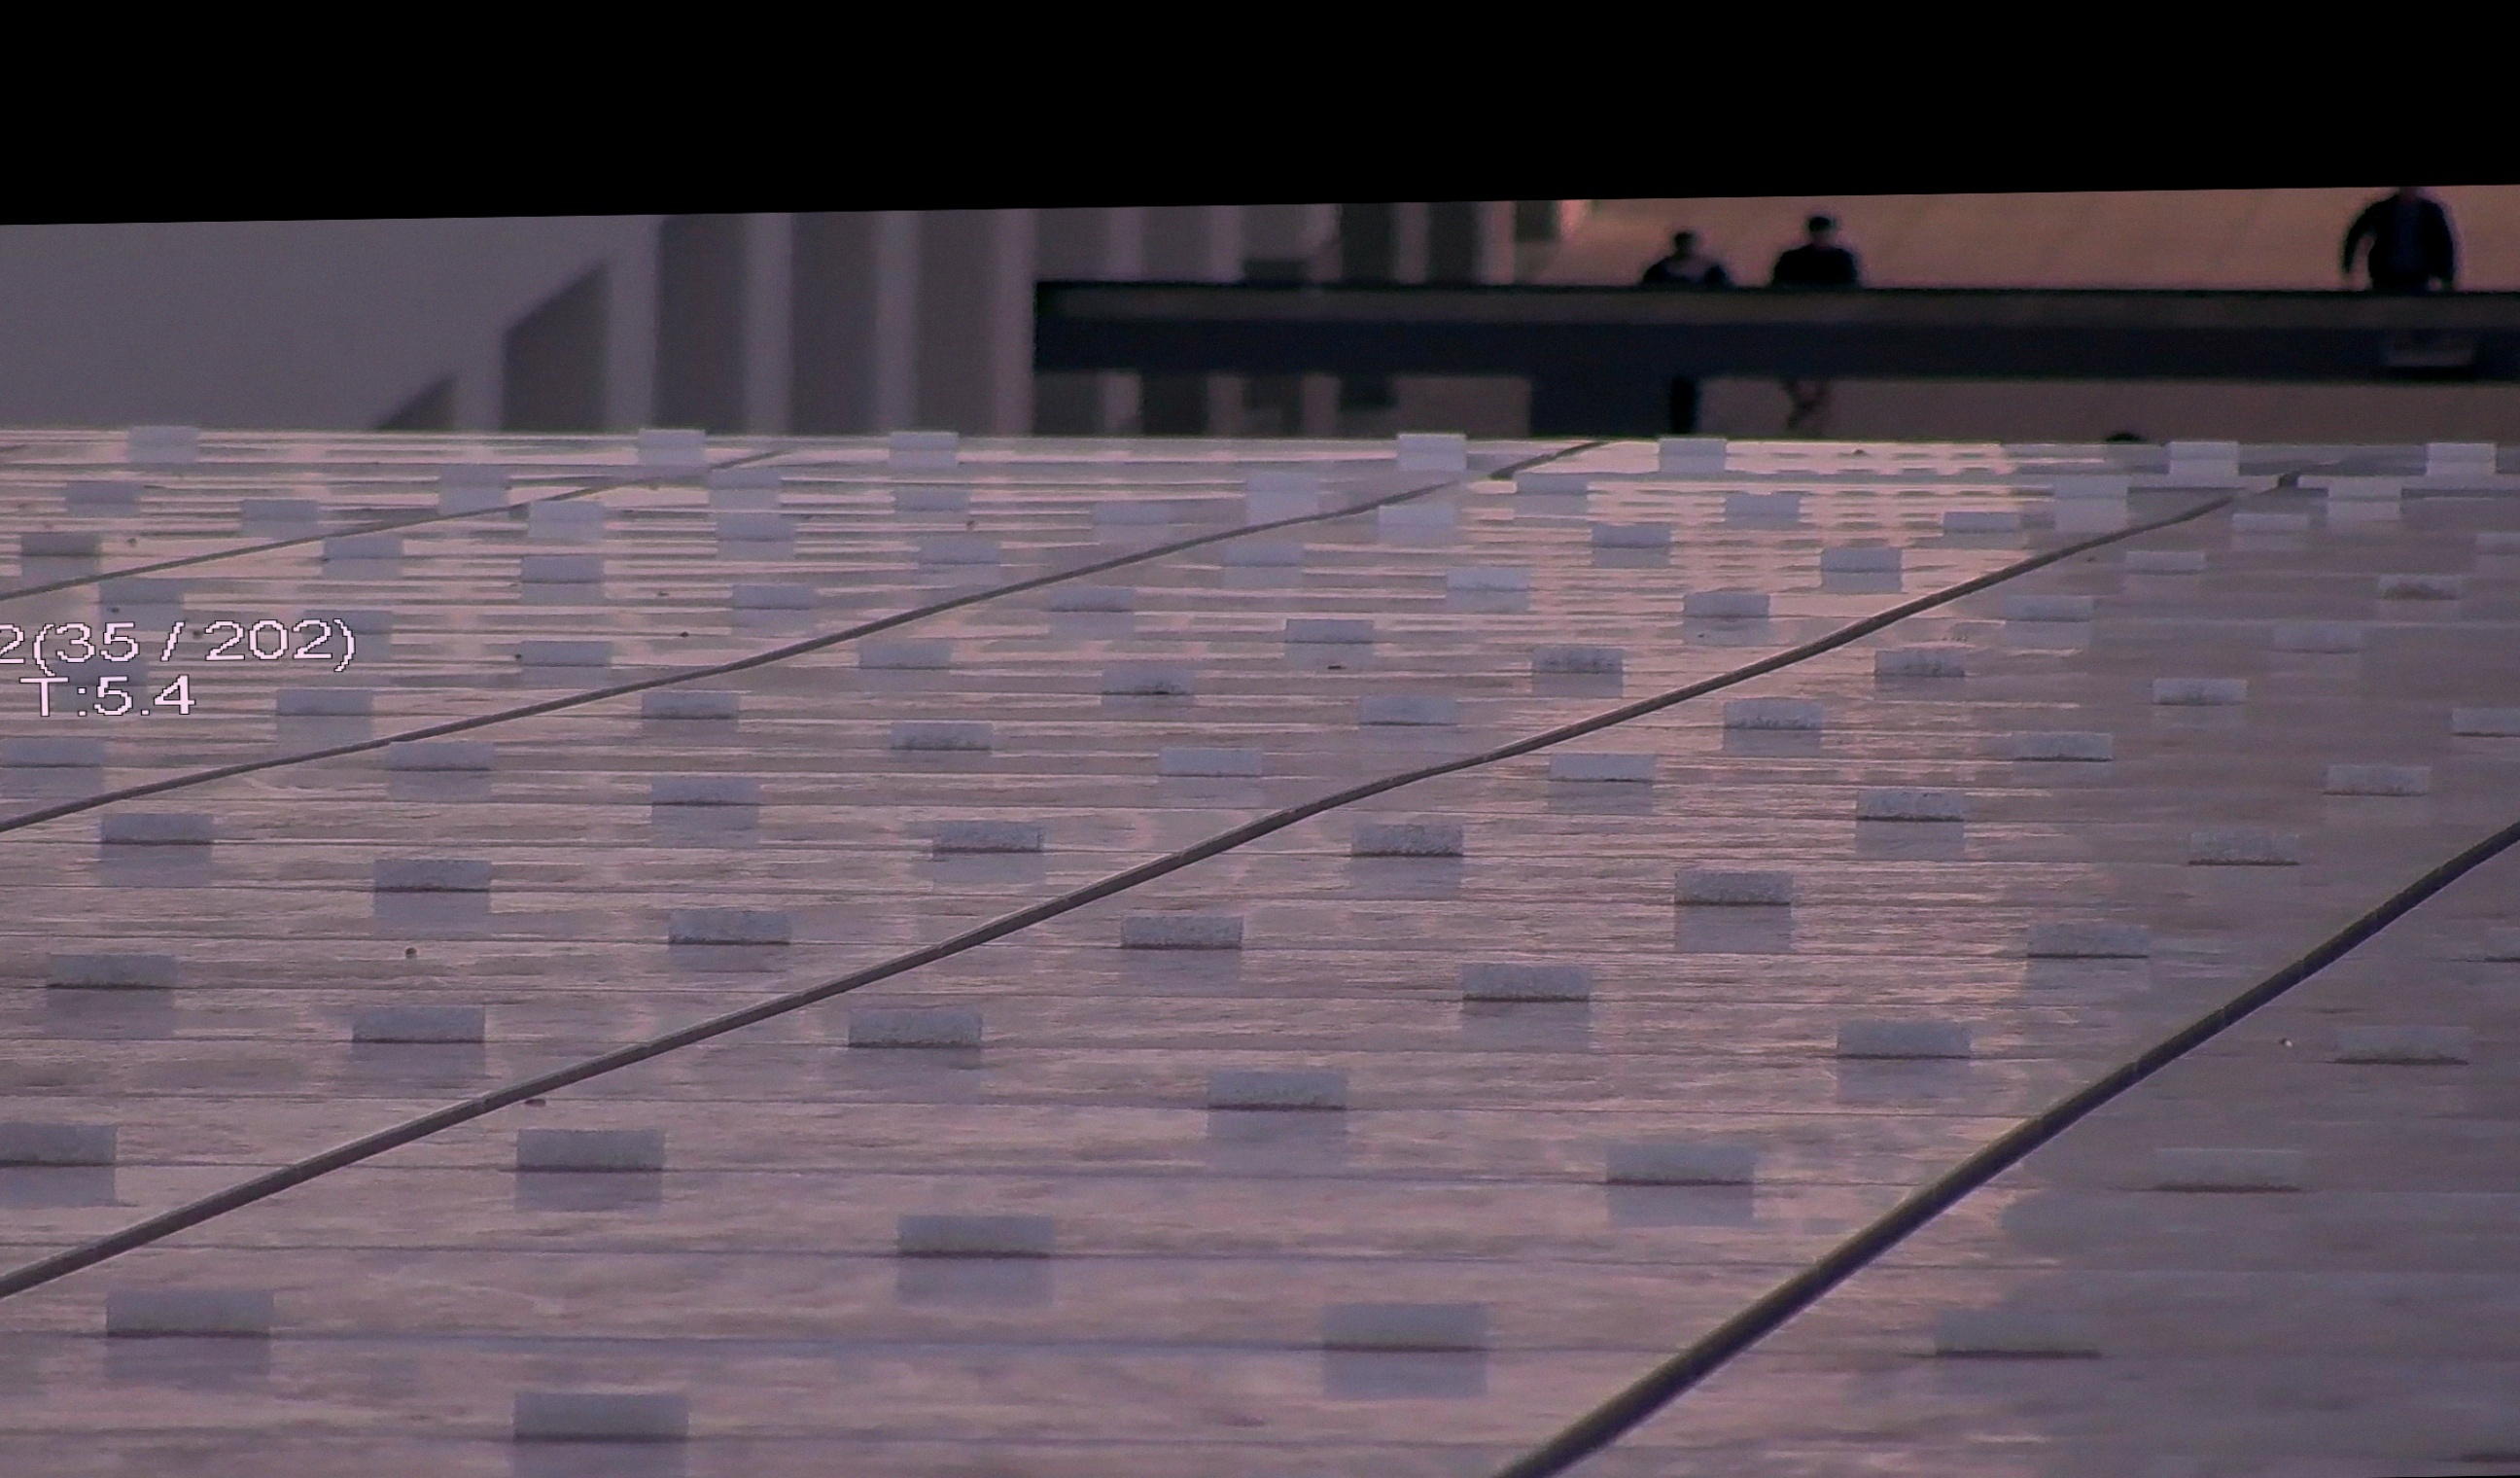Other: (2344, 185, 2487, 303)
